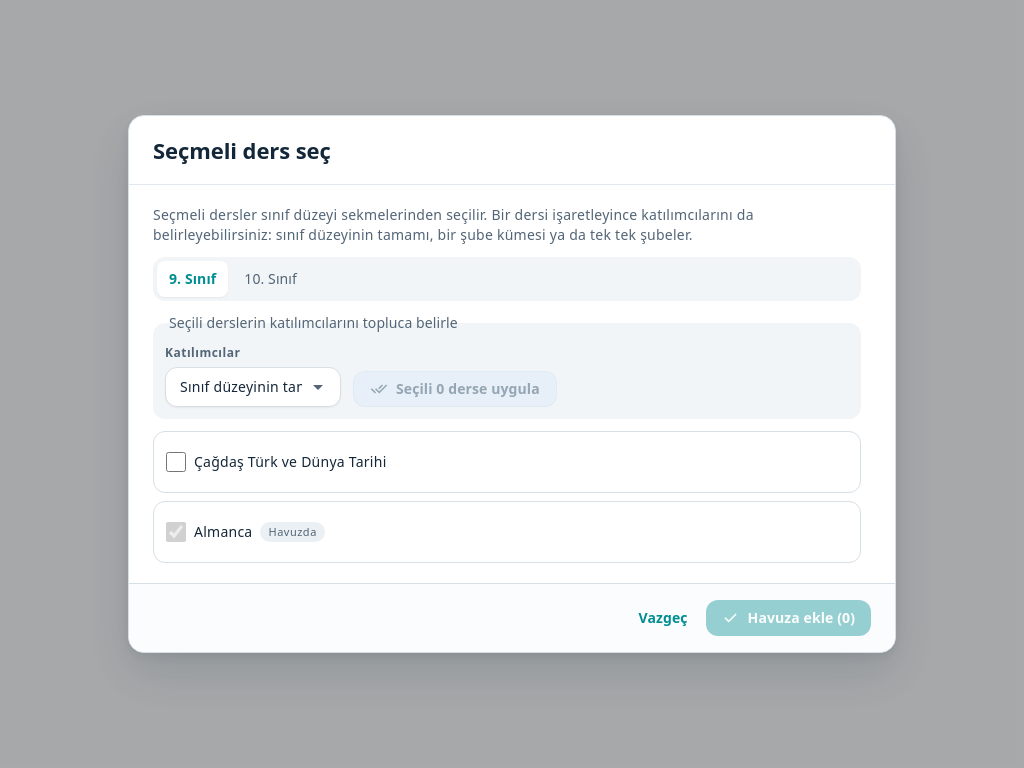
SecmeliDersSecimDialog › sınıf düzeyi sekmesi değişince o düzeyin seçmelileri listelenir
This screenshot has width=1024, height=768.
Expected: the checkbox labelled "Çağdaş Türk ve Dünya Tarihi" is shown, [166, 452, 186, 472]
Click the tab "10. Sınıf" at (271, 279), box [232, 261, 309, 297]
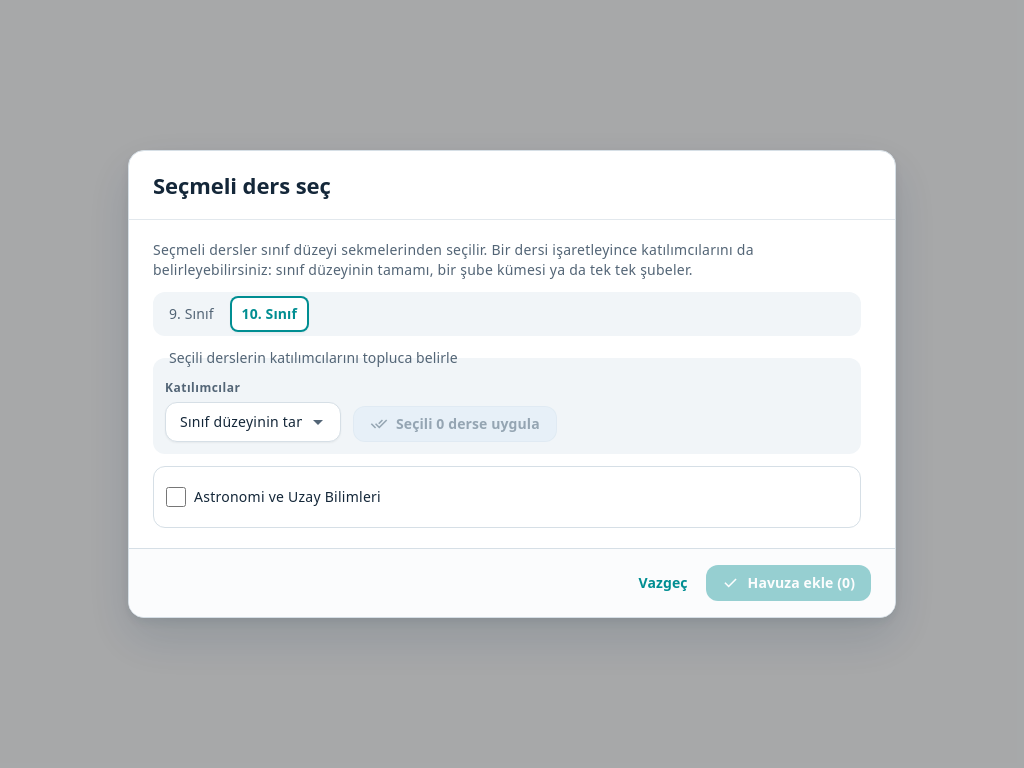
Expected: the checkbox labelled "Astronomi ve Uzay Bilimleri" is shown, [166, 487, 186, 507]
Expected: the label "Çağdaş Türk ve Dünya Tarihi" is gone
